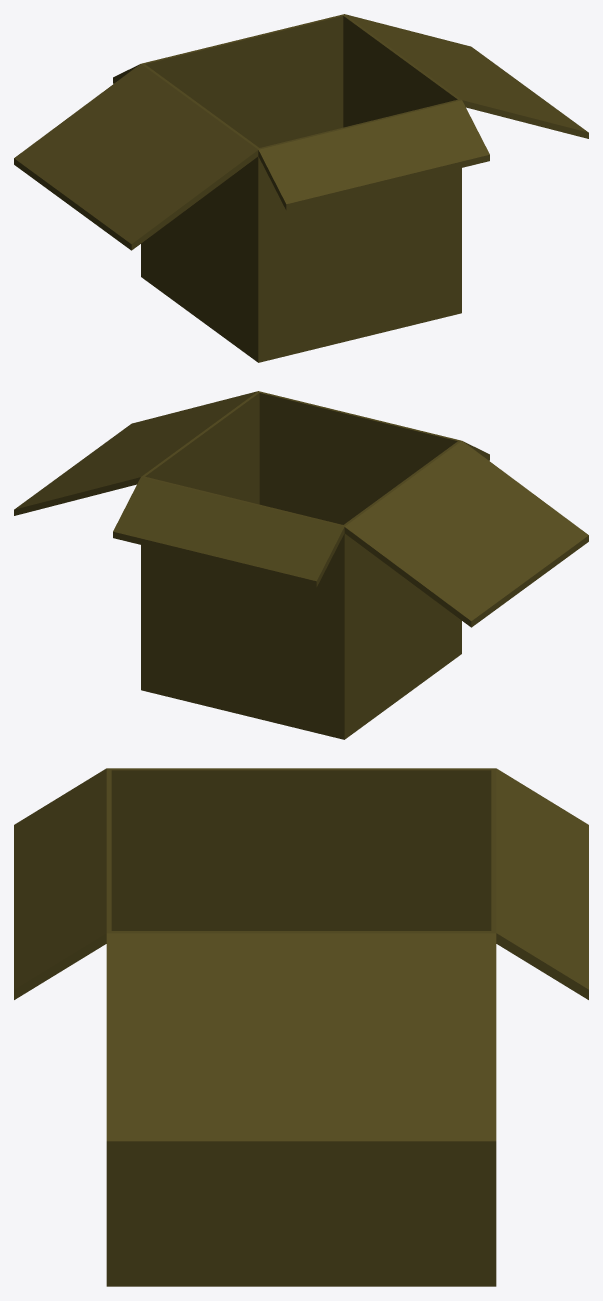
File: CAJA_DE_CARTON.fbx
The picture shows the model from 3 angles, top to bottom: view 1: azimuth 30°, elevation 25°; view 2: azimuth 150°, elevation 25°; view 3: azimuth 270°, elevation 25°; orthographic projection. The views are drawn at different scales.
Visible parts, largest first — view 1: Cube.001; view 2: Cube.001; view 3: Cube.001.
Boxes of the visible parts, x1,y1,x2,y2 form: Cube.001: [14, 14, 588, 362]; Cube.001: [14, 391, 588, 739]; Cube.001: [14, 768, 588, 1286].
Bounding box in the file's own units: 145 × 64.47 × 95.05.
